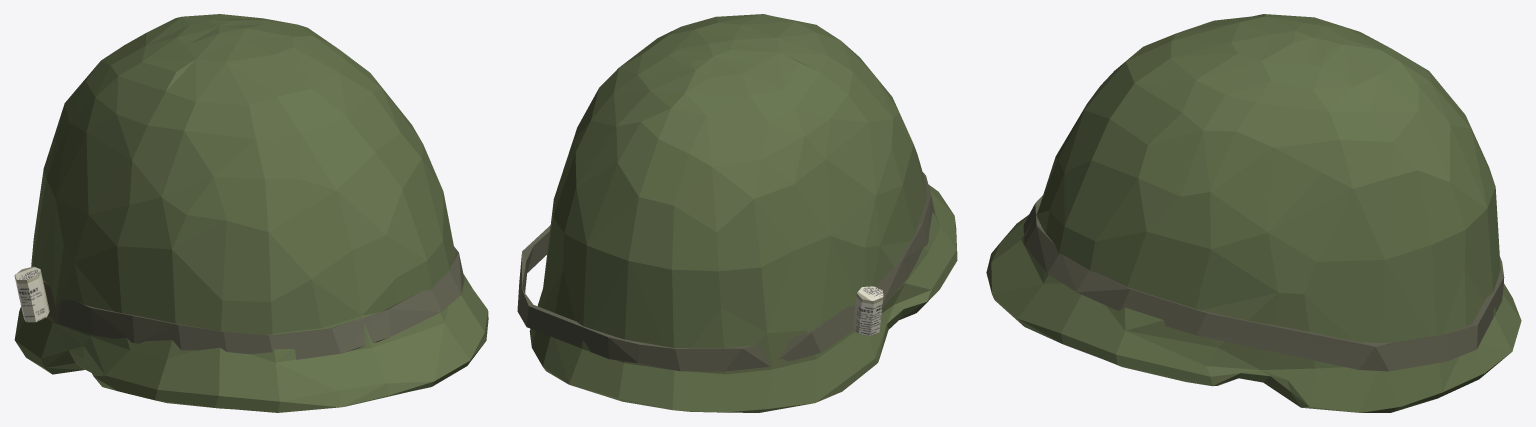
Rendered from m1_bugjuice.glb.
3 renders of one model, left to right at view 1: azimuth 30°, elevation 25°; view 2: azimuth 150°, elevation 25°; view 3: azimuth 270°, elevation 25°, orthographic. The views are drawn at different scales.
Parts seen in each view (by area): view 1: helmet_bugjuice_cover, helmet_bugjuice_band, helmet_bugjuice_bugjuice; view 2: helmet_bugjuice_cover, helmet_bugjuice_band, helmet_bugjuice_bugjuice; view 3: helmet_bugjuice_cover, helmet_bugjuice_band.
Part boxes in pixels (x1,y1,x2,y2): helmet_bugjuice_cover: [14, 14, 488, 412]; helmet_bugjuice_band: [31, 246, 464, 359]; helmet_bugjuice_bugjuice: [14, 266, 49, 322]; helmet_bugjuice_cover: [529, 14, 957, 412]; helmet_bugjuice_band: [517, 172, 934, 371]; helmet_bugjuice_bugjuice: [853, 286, 883, 336]; helmet_bugjuice_cover: [986, 14, 1521, 412]; helmet_bugjuice_band: [1023, 195, 1504, 371].
Size of the model in its own units: 0.238 by 0.1917 by 0.3044.
Materials: 3 (1 with a texture image).
